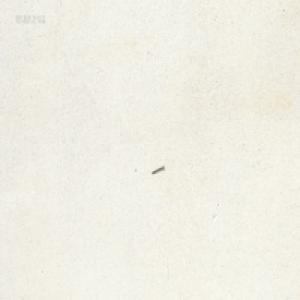Bolt: (151, 164, 164, 175)
